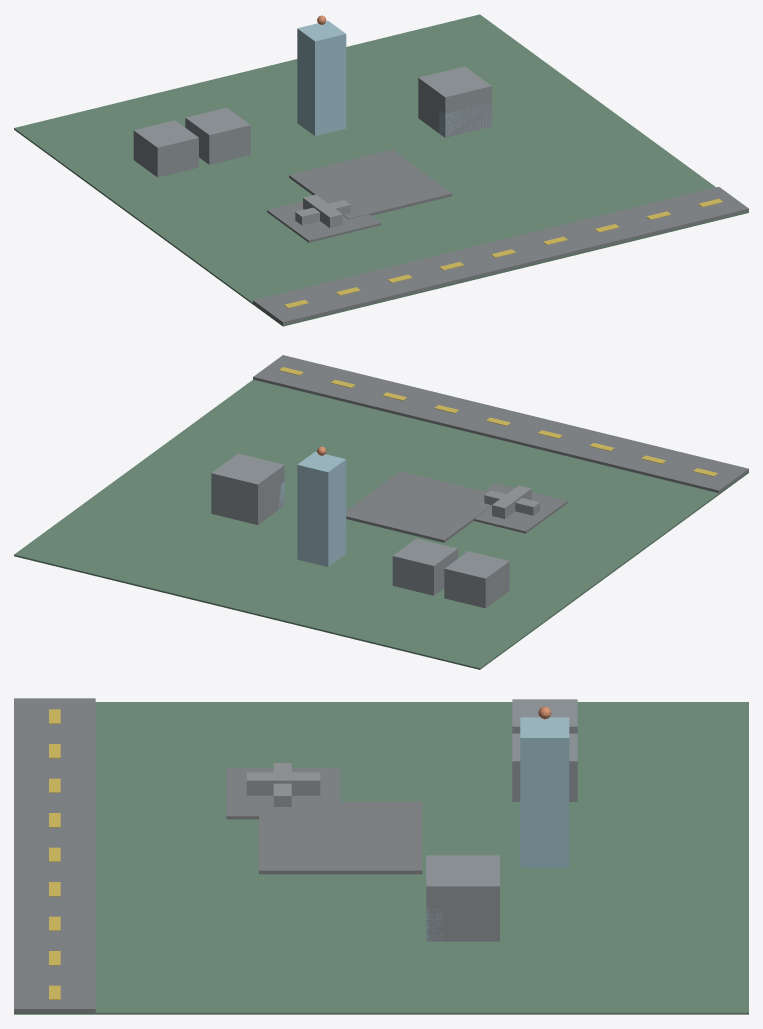
Rendered from stage_06.glb.
The picture shows the model from 3 angles, top to bottom: view 1: azimuth 30°, elevation 25°; view 2: azimuth 150°, elevation 25°; view 3: azimuth 270°, elevation 25°; orthographic projection. The views are drawn at different scales.
Visible parts, largest first — view 1: geometry_0; view 2: geometry_0; view 3: geometry_0.
Part boxes in pixels (x1,y1,x2,y2): geometry_0: (14, 14, 748, 326); geometry_0: (14, 355, 748, 669); geometry_0: (14, 698, 748, 1014).
Size of the model in its own units: 9 by 2.06 by 9.
